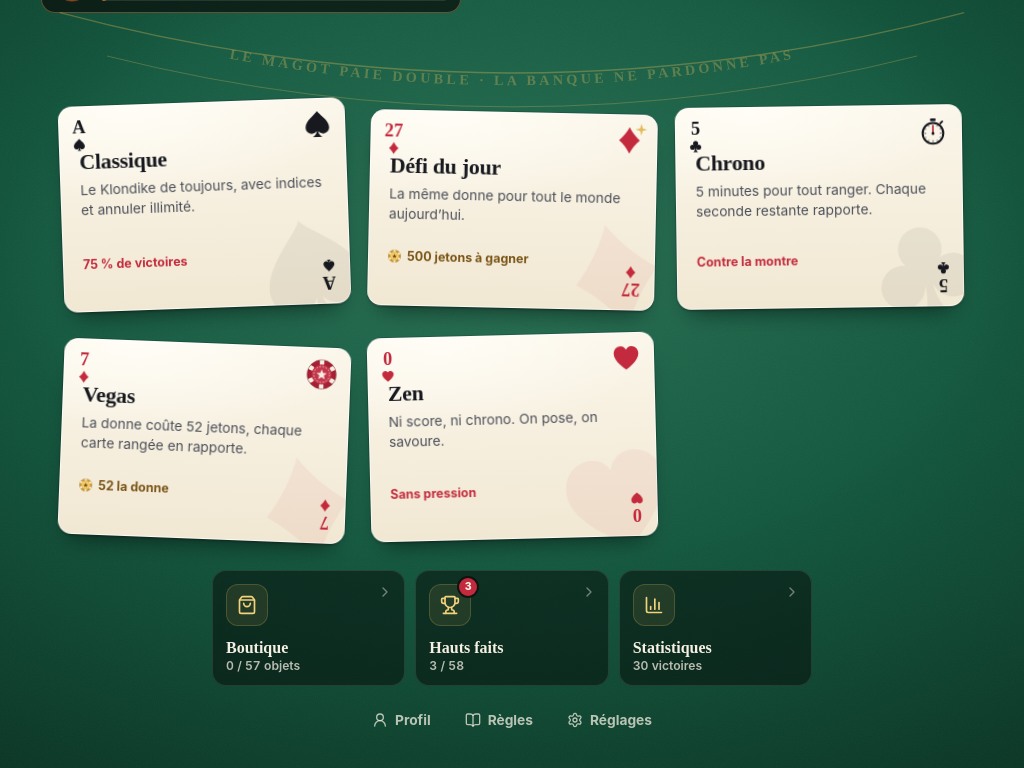
Test case: hauts faits › montre les paliers, la progression et les exploits
(page scrolled)
Step 1. Click the button "3 Hauts faits 3 / 58" → [512, 628], box [415, 570, 609, 686]
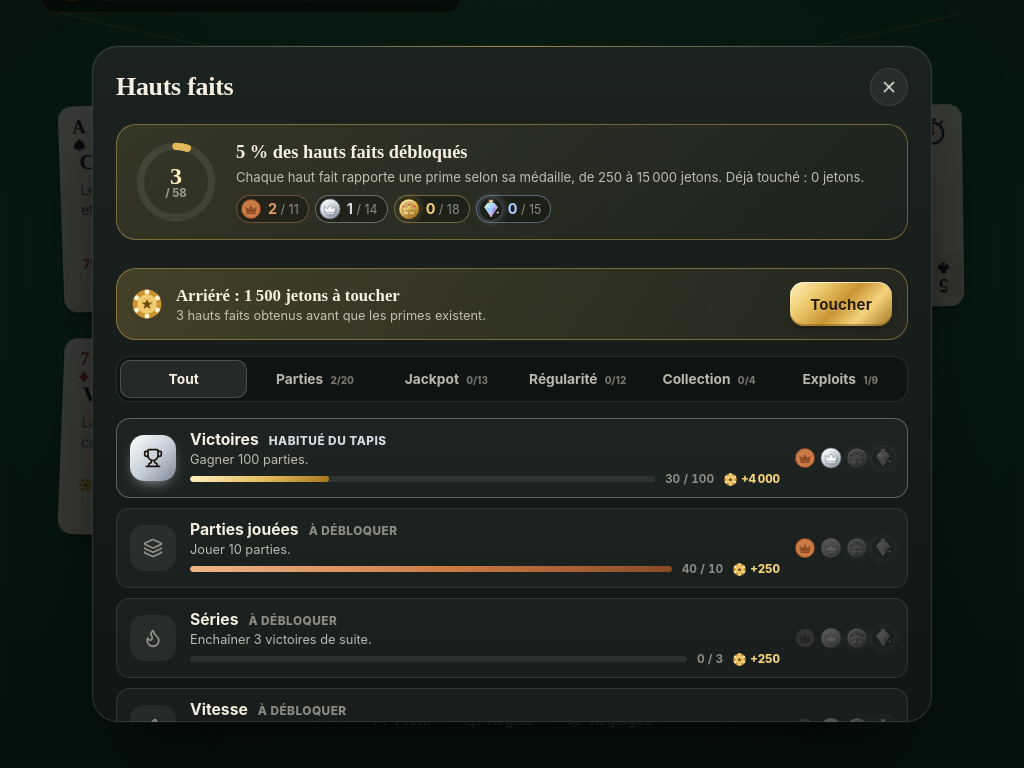
Expected: the picture named "3 hauts faits sur" is shown, [134, 140, 218, 224]
Expected: the text "Habitué du tapis" is shown, [269, 434, 387, 448]
Expected: the text "30 / 100" is shown, [665, 472, 714, 486]
Step 2. Click the tab "Exploits 1/9" → [840, 379], box [777, 360, 904, 398]
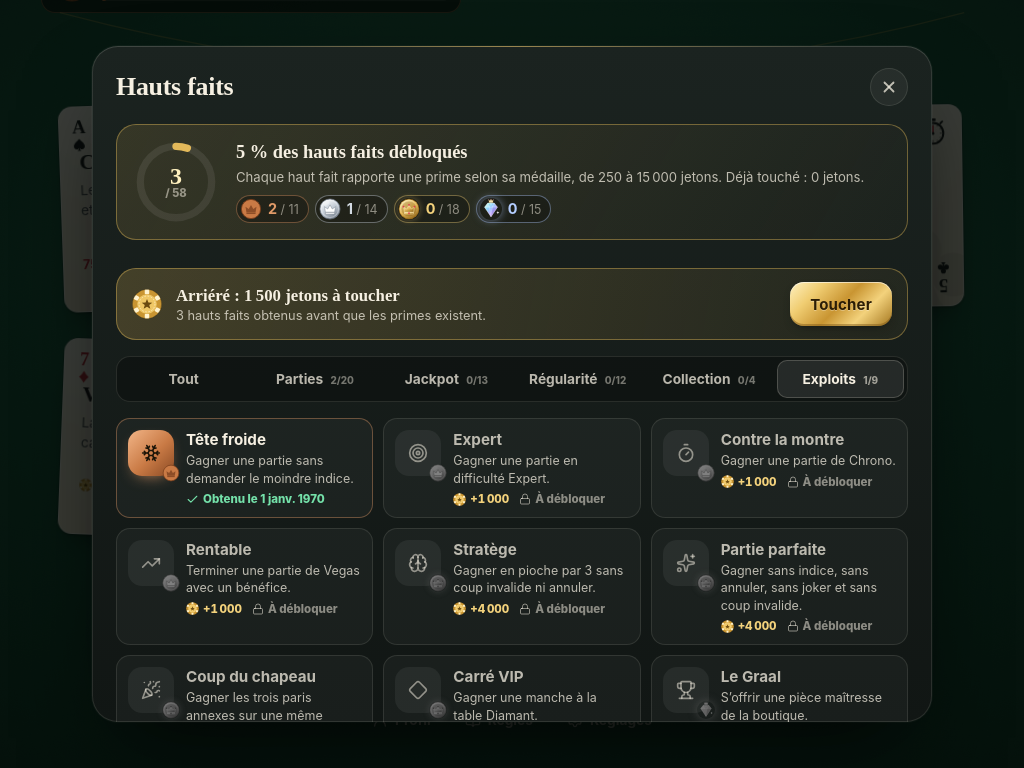
Expected: the text "Tête froide" is shown, [186, 430, 266, 449]
